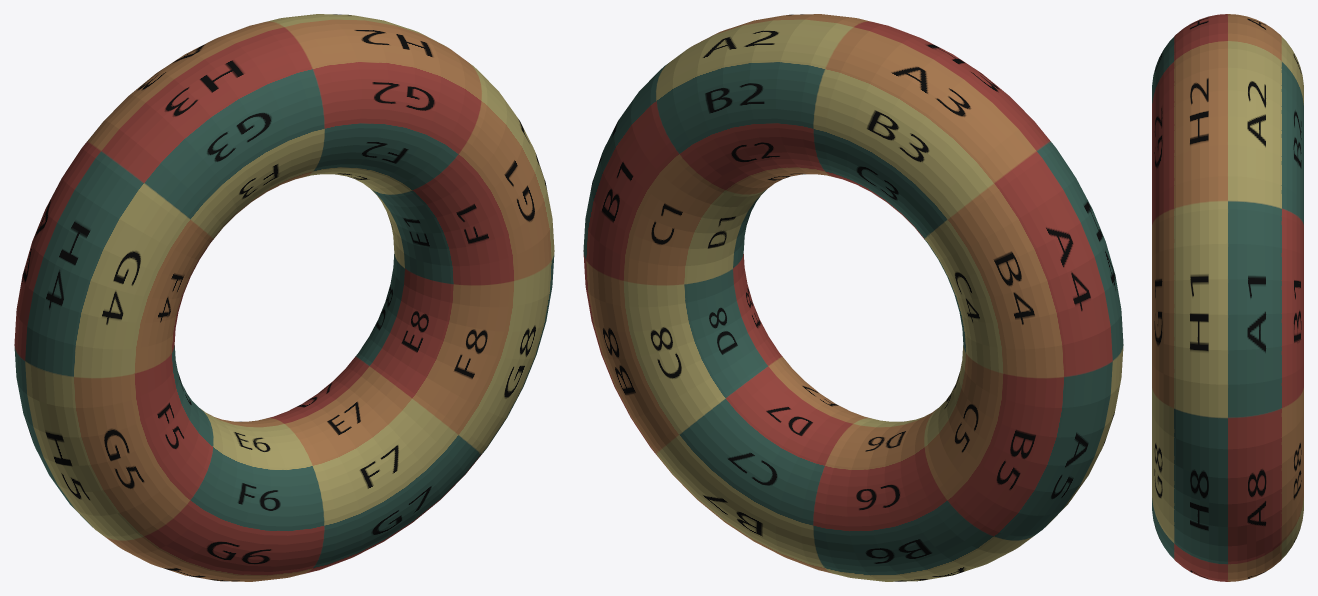
The model's file is texture_torus_R14_r19.glb.
3 views of the same model, side by side, from view 1: azimuth 30°, elevation 25°; view 2: azimuth 150°, elevation 25°; view 3: azimuth 270°, elevation 25° (orthographic). The views are drawn at different scales.
Visible parts, largest first — view 1: world; view 2: world; view 3: world.
Part boxes in pixels (x1,y1,x2,y2): world: (14, 14, 554, 581); world: (583, 14, 1123, 581); world: (1152, 14, 1303, 581).
Size of the model in its own units: 26.4 by 26.35 by 7.05.
1 material, 1 textured.
